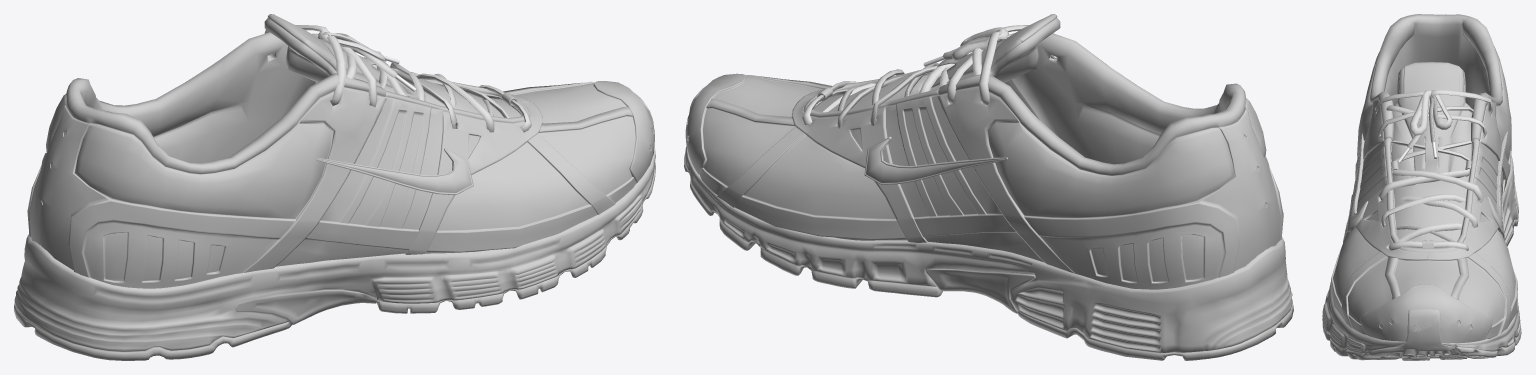
The model's file is shoe_group_r_90x.FBX.
The picture shows the model from 3 angles, left to right: view 1: azimuth 30°, elevation 25°; view 2: azimuth 150°, elevation 25°; view 3: azimuth 270°, elevation 25°; orthographic projection. The views are drawn at different scales.
Parts seen in each view (by area): view 1: shoe_r, sole_r, laces_r; view 2: shoe_r, sole_r, laces_r; view 3: shoe_r, sole_r, laces_r.
Boxes of the visible parts, <box> form: shoe_r: <box>27,14,654,288</box>; sole_r: <box>14,93,655,360</box>; laces_r: <box>264,25,531,132</box>; shoe_r: <box>685,14,1283,289</box>; sole_r: <box>684,86,1293,360</box>; laces_r: <box>802,25,1057,128</box>; shoe_r: <box>1331,14,1517,343</box>; sole_r: <box>1322,154,1521,360</box>; laces_r: <box>1375,90,1492,250</box>.
Bounding box in the file's own units: 192 × 71.01 × 80.59.
